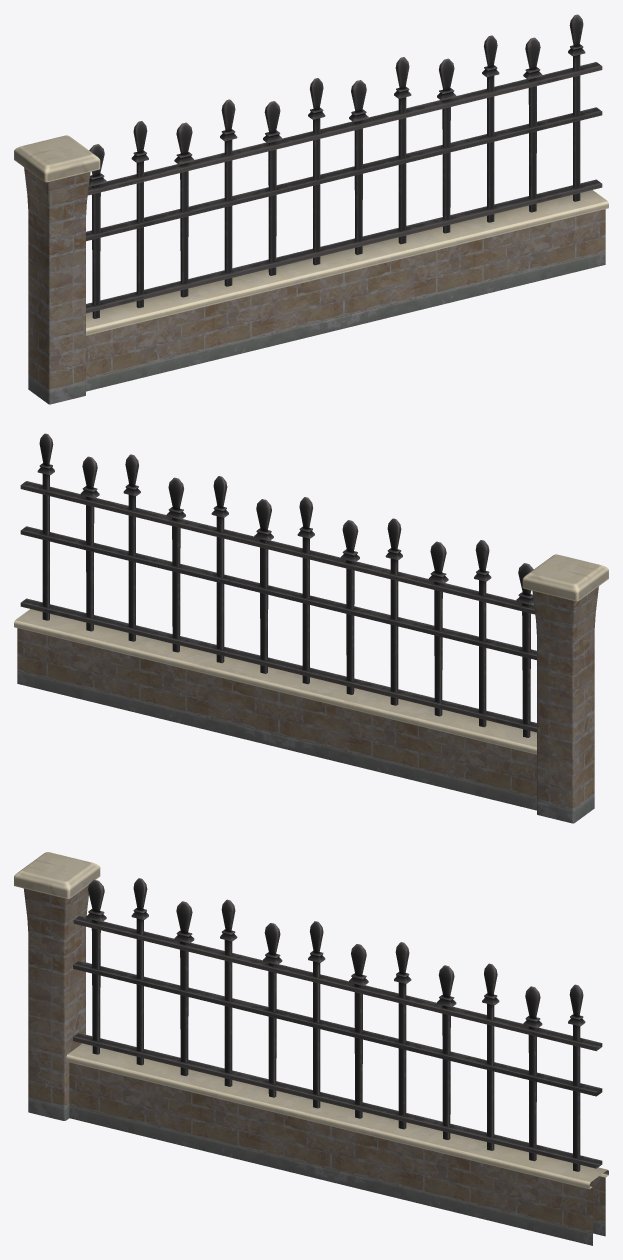
The model's file is StreetFence02_B2.FBX.
3 renders of one model, top to bottom at view 1: azimuth 30°, elevation 25°; view 2: azimuth 150°, elevation 25°; view 3: azimuth 330°, elevation 25°, orthographic.
Visible parts, largest first — view 1: StreetFence02_B2; view 2: StreetFence02_B2; view 3: StreetFence02_B2.
Part boxes in pixels (box(x1,y1,x2,y2)): StreetFence02_B2: box(14, 14, 608, 404); StreetFence02_B2: box(14, 433, 608, 823); StreetFence02_B2: box(14, 852, 608, 1245).
Size of what is drawn, in the model's own units: 4.58 by 1.92 by 0.4485.
